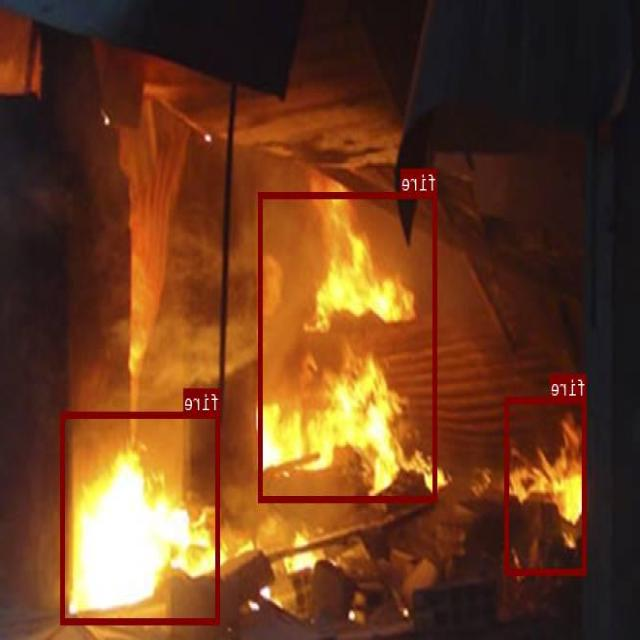fire: (259, 190, 438, 502), (61, 411, 221, 623), (506, 396, 587, 574)
